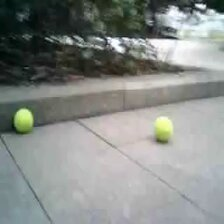tennis: (14, 109, 34, 133), (155, 117, 172, 139)
